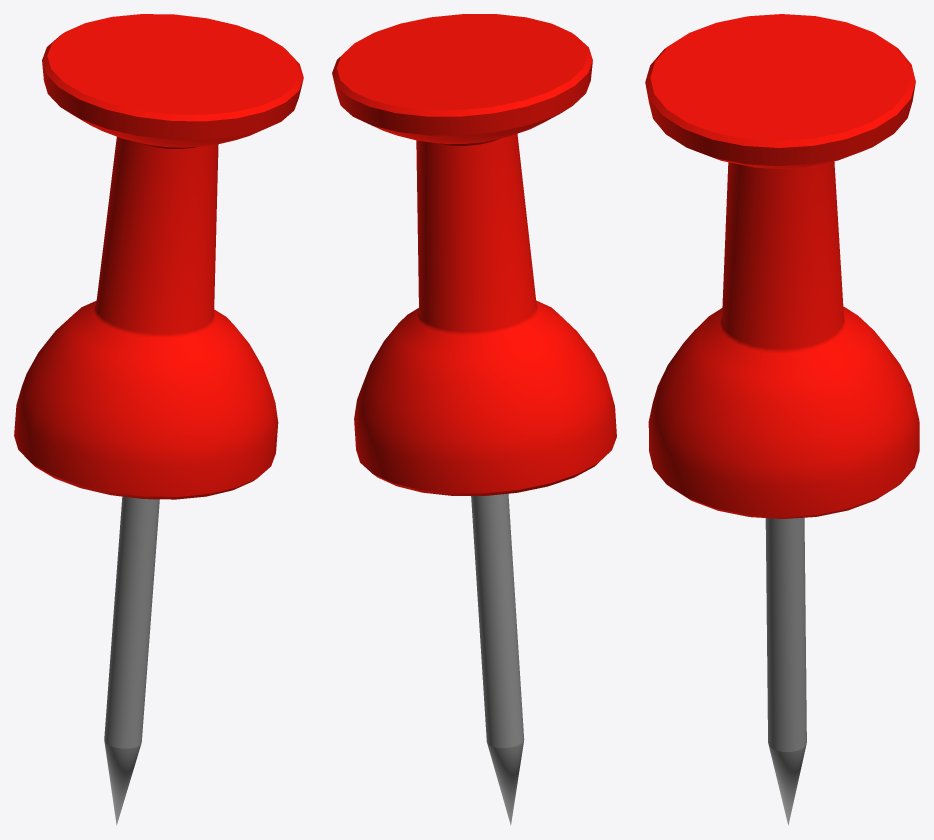
File: pin.fbx
3 renders of one model, left to right at view 1: azimuth 30°, elevation 25°; view 2: azimuth 150°, elevation 25°; view 3: azimuth 270°, elevation 25°, orthographic. The views are drawn at different scales.
Parts seen in each view (by area): view 1: pin_plastic_body, pin_metal; view 2: pin_plastic_body, pin_metal; view 3: pin_plastic_body, pin_metal.
Part boxes in pixels (x1,y1,x2,y2): pin_plastic_body: (14, 14, 303, 499); pin_metal: (104, 496, 159, 825); pin_plastic_body: (332, 14, 616, 495); pin_metal: (471, 493, 524, 825); pin_plastic_body: (645, 14, 919, 518); pin_metal: (765, 517, 806, 825).
Size of the model in its own units: 116 by 333 by 106.
